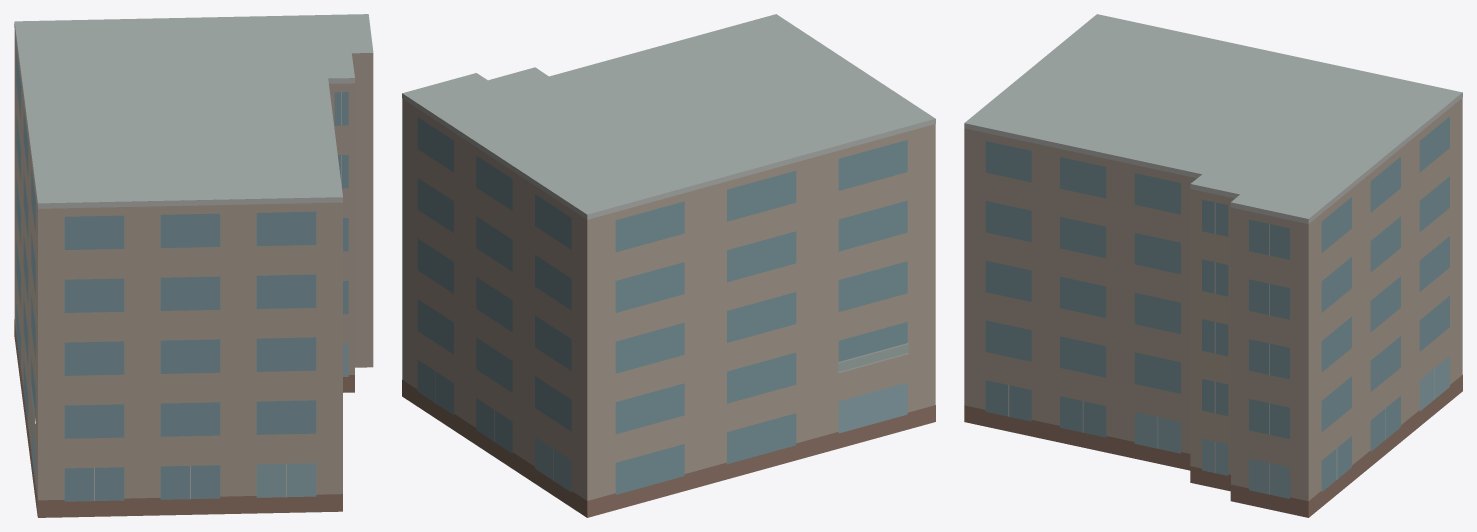
The model's file is survey-upis-33022677.glb.
The picture shows the model from 3 angles, left to right: view 1: azimuth 30°, elevation 25°; view 2: azimuth 150°, elevation 25°; view 3: azimuth 270°, elevation 25°; orthographic projection. The views are drawn at different scales.
Parts seen in each view (by area): view 1: survey-upis-33022677.tmp; view 2: survey-upis-33022677.tmp; view 3: survey-upis-33022677.tmp.
Part boxes in pixels (bbox=[...]): survey-upis-33022677.tmp: bbox=[14, 14, 373, 517]; survey-upis-33022677.tmp: bbox=[402, 14, 935, 517]; survey-upis-33022677.tmp: bbox=[964, 14, 1462, 517].
Bounding box in the file's own units: 20.98 × 14.25 × 21.55.
